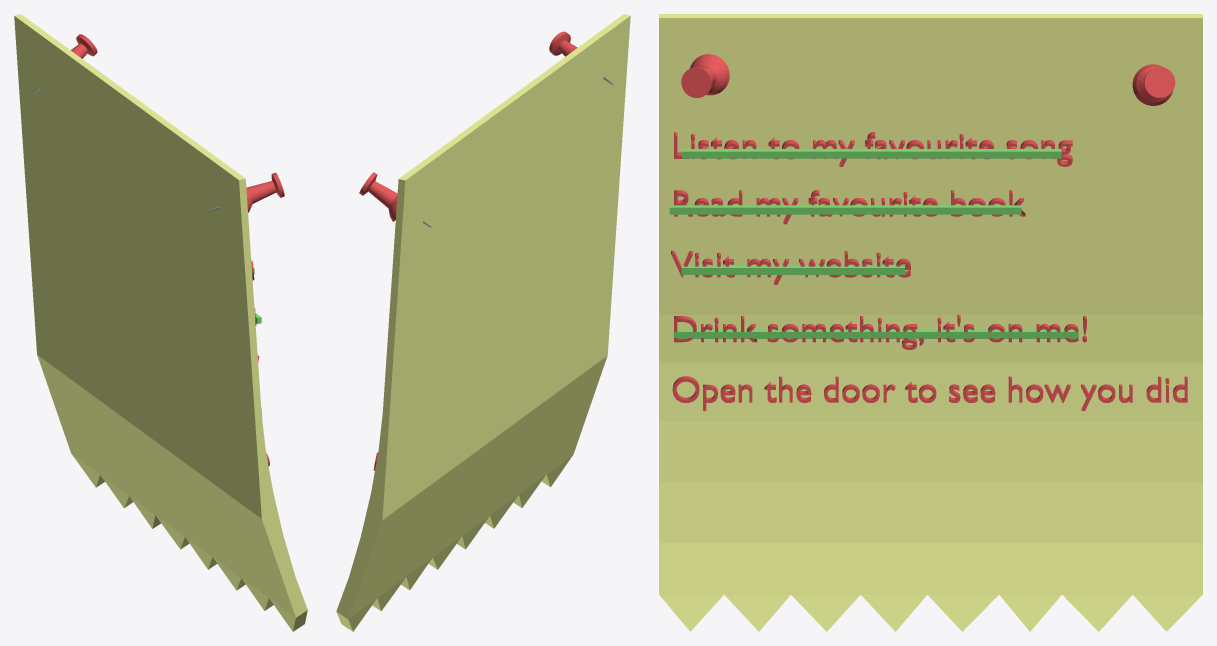
Rendered from note.glb.
3 renders of one model, left to right at view 1: azimuth 30°, elevation 25°; view 2: azimuth 150°, elevation 25°; view 3: azimuth 270°, elevation 25°, orthographic. The views are drawn at different scales.
Parts seen in each view (by area): view 1: Plane, punaise, punaise.001; view 2: Plane, punaise.001, punaise; view 3: Plane, Text.004, Cube, Cube.003, Cube.001, Text.003, Text, Text.001, Cube.002, Text.002, punaise, punaise.001.
Part boxes in pixels (box(x1,y1,x2,y2)): Plane: box(14, 14, 307, 631); punaise: box(206, 172, 284, 212); punaise.001: box(33, 34, 97, 95); Plane: box(336, 14, 630, 631); punaise.001: box(359, 172, 431, 227); punaise: box(549, 31, 612, 84); Plane: box(659, 14, 1202, 631); Text.004: box(672, 376, 1187, 410); Cube: box(682, 149, 1061, 158); Cube.003: box(673, 329, 1078, 338); Cube.001: box(669, 205, 1021, 214); Text.003: box(674, 315, 1086, 349); Text: box(674, 132, 1072, 166); Text.001: box(674, 190, 1025, 224); Cube.002: box(681, 265, 904, 274); Text.002: box(671, 251, 910, 284); punaise: box(681, 54, 729, 97); punaise.001: box(1132, 64, 1175, 105).
Bounding box in the file's own units: 0.3532 × 1.87 × 1.6.
